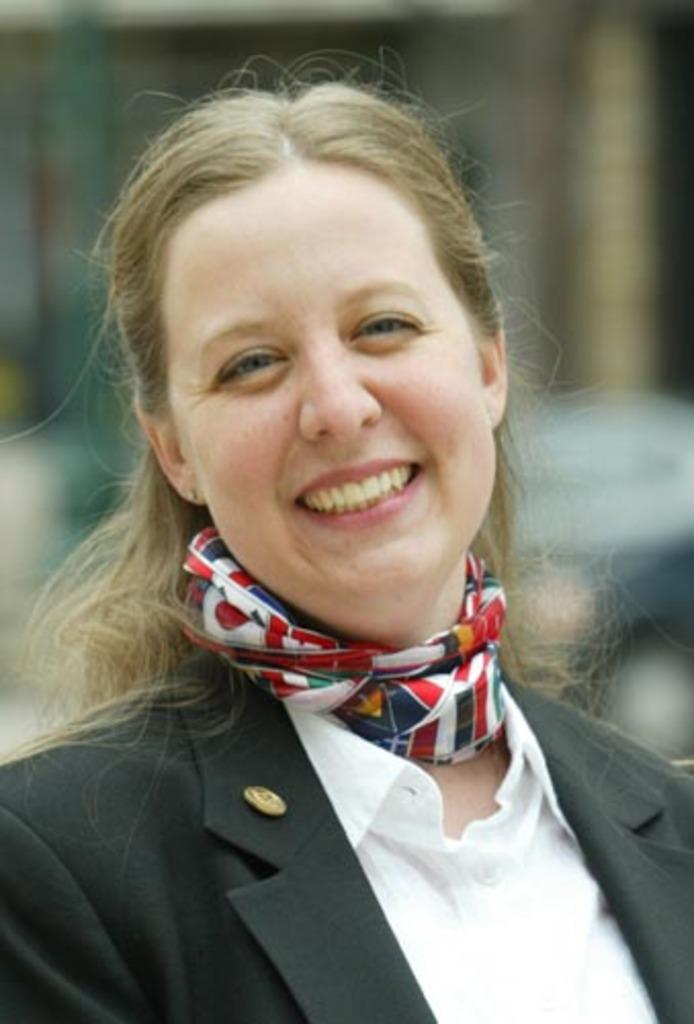Sem Máscara: (168, 160, 497, 605)
